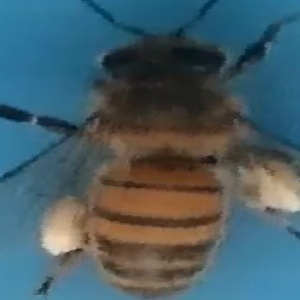bee: (27, 7, 300, 300)
